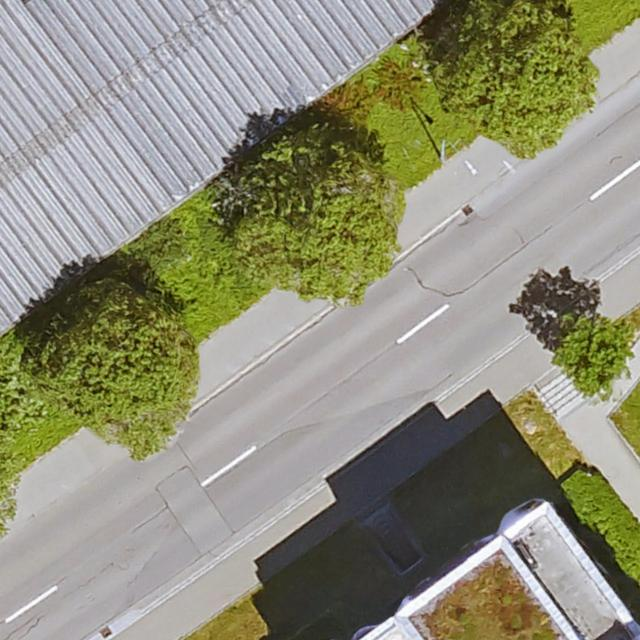tree: (222, 125, 407, 306), (21, 283, 199, 461), (437, 1, 599, 158), (550, 312, 633, 398), (0, 437, 17, 535)
